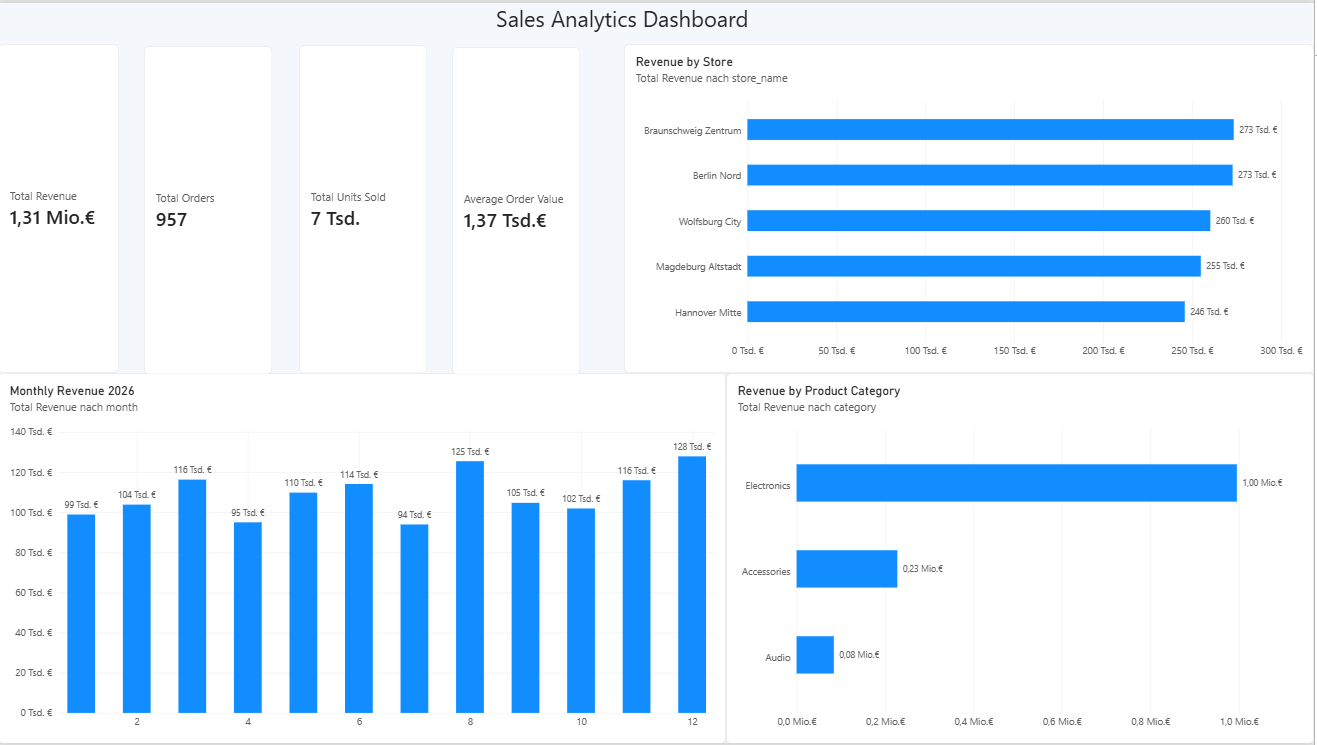

The dashboard page shown, as its layout file describes it:
{"tool":"powerbi","page":{"name":"Sales","canvas":[1920,1080],"ordinal":0},"visuals":[{"type":"cardVisual","fields":{"Data":["Fact_Sales.Total Revenue"]},"box":[0,59.8,176.5,480],"z":0},{"type":"clusteredColumnChart","title":"Monthly Revenue 2026","fields":{"Category":["Dim_Date.month"],"Y":["Fact_Sales.Total Revenue"]},"box":[0,539.3,1062.1,541.3],"z":1},{"type":"clusteredBarChart","title":"Revenue by Product Category","fields":{"Category":["Dim_Product.category"],"Y":["Fact_Sales.Total Revenue"]},"box":[1062.1,539.3,858.3,541.3],"z":2},{"type":"clusteredBarChart","title":"Revenue by Store","fields":{"Category":["Dim_Store.store_name"],"Y":["Fact_Sales.Total Revenue"]},"box":[913.9,59.7,1006.5,479.6],"z":3},{"type":"textbox","box":[726.6,0,413.7,59.7],"z":7},{"type":"cardVisual","fields":{"Data":["Fact_Sales.Total Orders"]},"box":[213,62.7,187.3,479.6],"z":8},{"type":"cardVisual","fields":{"Data":["Fact_Sales.Total Units Sold"]},"box":[438.4,61.7,187.3,479.6],"z":9},{"type":"cardVisual","fields":{"Data":["Fact_Sales.Average Order Value"]},"box":[662.8,63.8,187.3,479.6],"z":10}]}

Visuals, with their boxes in screenshot pixels (x1, y1, x2, y2), scaled from the page's 1920x1080 canvas onto the 1317x745 screenshot:
cardVisual - Fact_Sales.Total Revenue: bbox=(0, 41, 121, 372)
"Monthly Revenue 2026" clusteredColumnChart: bbox=(0, 372, 729, 744)
"Revenue by Product Category" clusteredBarChart: bbox=(729, 372, 1316, 744)
"Revenue by Store" clusteredBarChart: bbox=(627, 41, 1316, 372)
textbox: bbox=(498, 0, 782, 41)
cardVisual - Fact_Sales.Total Orders: bbox=(146, 43, 275, 374)
cardVisual - Fact_Sales.Total Units Sold: bbox=(301, 43, 429, 373)
cardVisual - Fact_Sales.Average Order Value: bbox=(455, 44, 583, 375)
